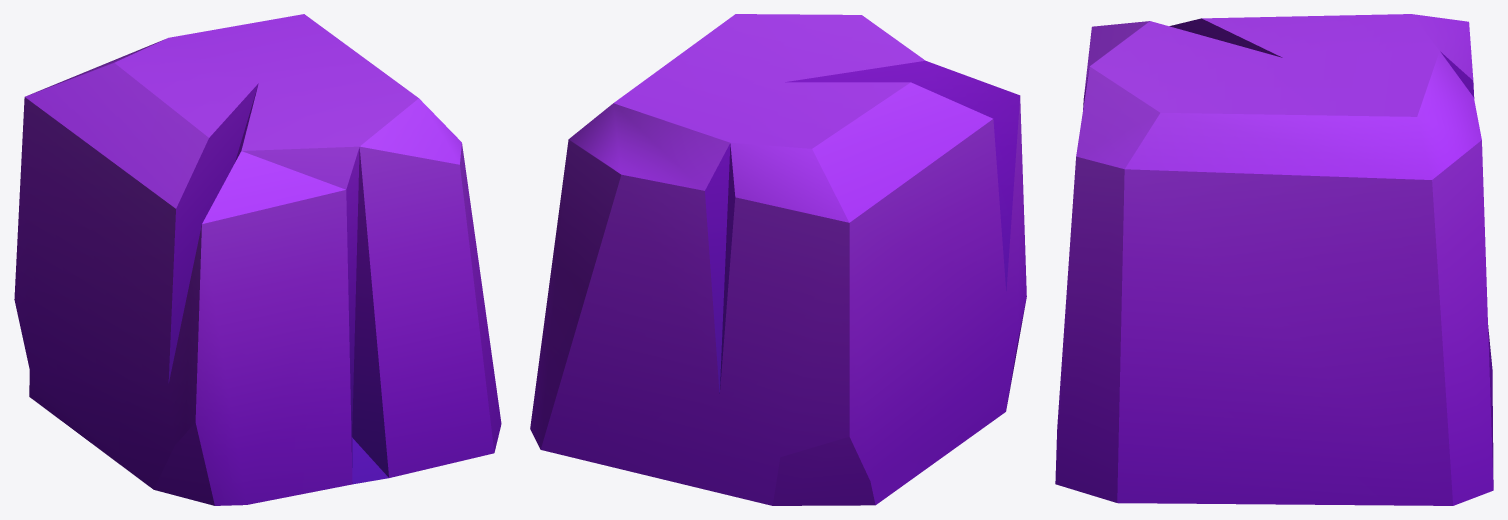
Rendered from rock_purple.fbx.
3 renders of one model, left to right at view 1: azimuth 30°, elevation 25°; view 2: azimuth 150°, elevation 25°; view 3: azimuth 270°, elevation 25°, orthographic. The views are drawn at different scales.
Visible parts, largest first — view 1: rock_purple; view 2: rock_purple; view 3: rock_purple.
Part boxes in pixels (x1=…): rock_purple: x1=14, y1=14, x2=501, y2=505; rock_purple: x1=530, y1=14, x2=1026, y2=505; rock_purple: x1=1055, y1=14, x2=1493, y2=505.
Size of the model in its own units: 16.92 by 15.83 by 17.61.
